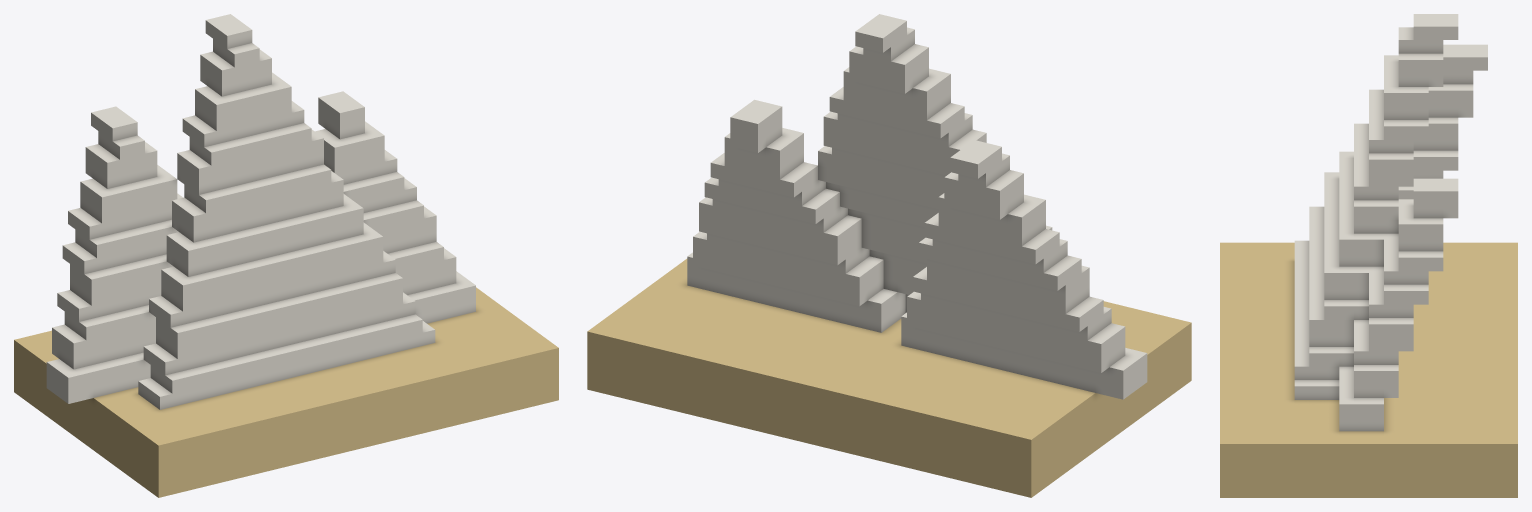
Rendered from w_opera.glb.
3 renders of one model, left to right at view 1: azimuth 30°, elevation 25°; view 2: azimuth 150°, elevation 25°; view 3: azimuth 270°, elevation 25°, orthographic. The views are drawn at different scales.
Parts seen in each view (by area): view 1: w_opera_body; view 2: w_opera_body; view 3: w_opera_body.
Boxes of the visible parts, bbox=[...] form: w_opera_body: bbox=[14, 14, 558, 497]; w_opera_body: bbox=[587, 14, 1191, 497]; w_opera_body: bbox=[1220, 14, 1517, 497].
Bounding box in the file's own units: 2.12 × 1.69 × 1.25.
Materials: 1 (1 with a texture image).
